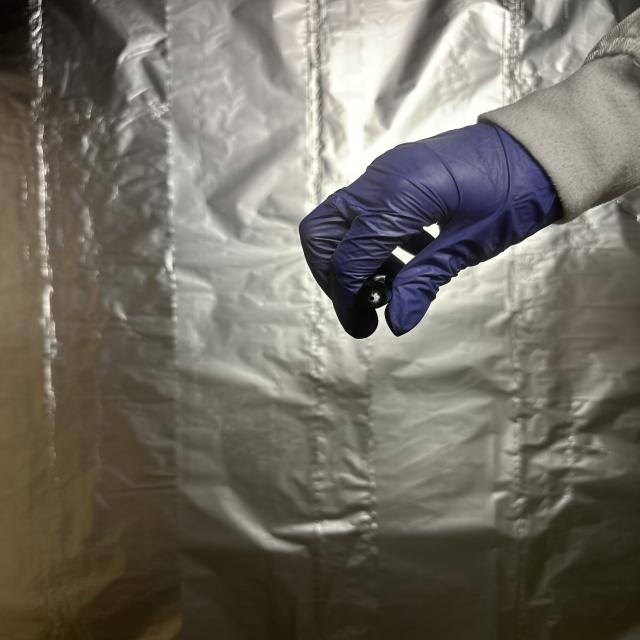gloves_contaminated: (300, 124, 562, 338)
